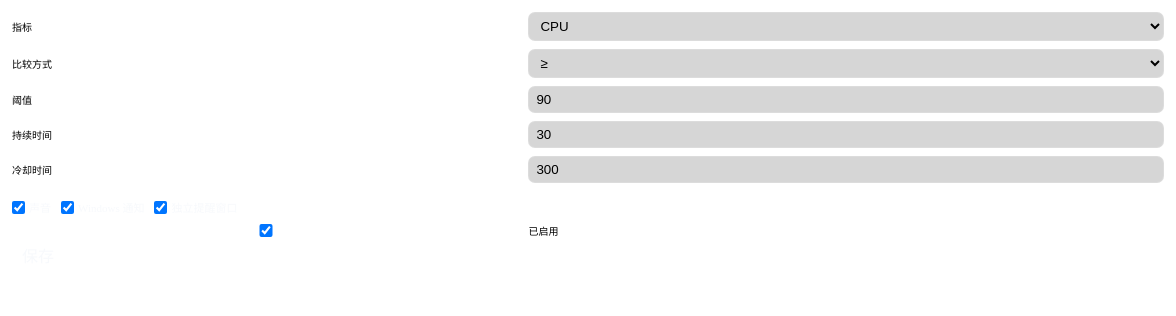
Test: validates threshold route and at least one notification channel
Click the checkbox labelled "声音".
click(18, 207)  # box x1=12 y1=200 x2=25 y2=214
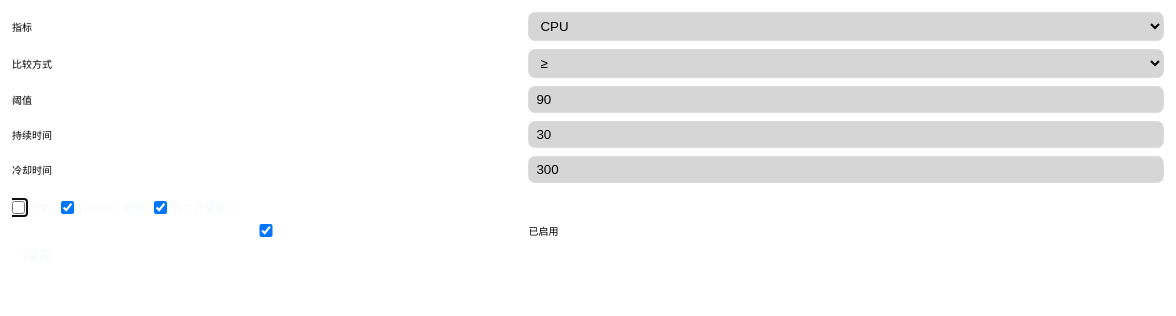
Click the checkbox labelled "Windows 通知".
click(68, 207)  # box x1=61 y1=200 x2=74 y2=214
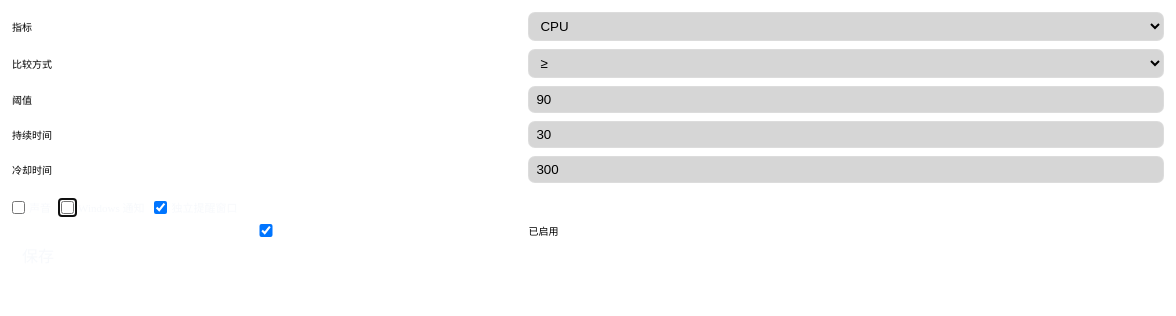
Click the checkbox labelled "独立提醒窗口".
click(161, 207)  # box x1=154 y1=200 x2=168 y2=214
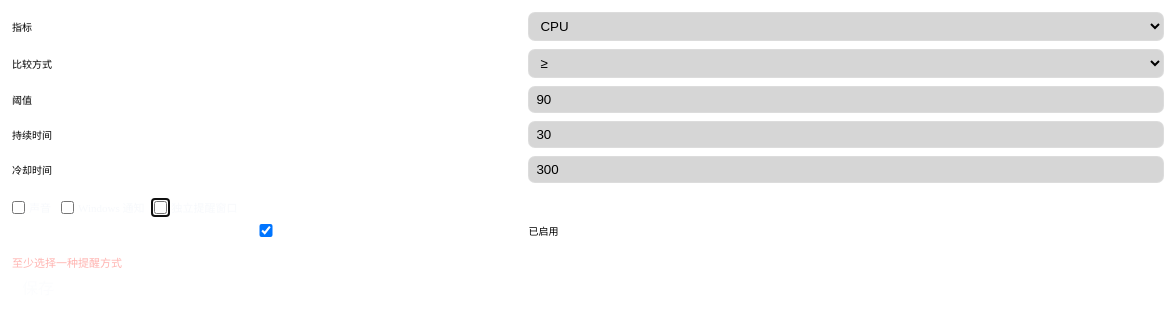
Check: the message reads "至少选择一种提醒方式", box x1=12 y1=257 x2=122 y2=269
